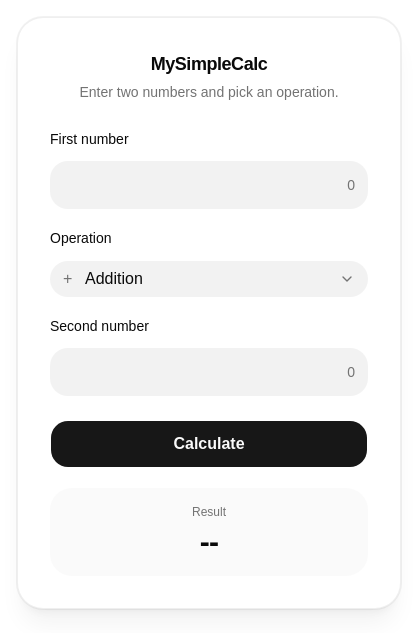
Scenario: CalculatorPage › submitting to the backend › displays the result returned by the backend
Type "25" into the number field labelled "First number" at (209, 185), box [50,161,368,209]
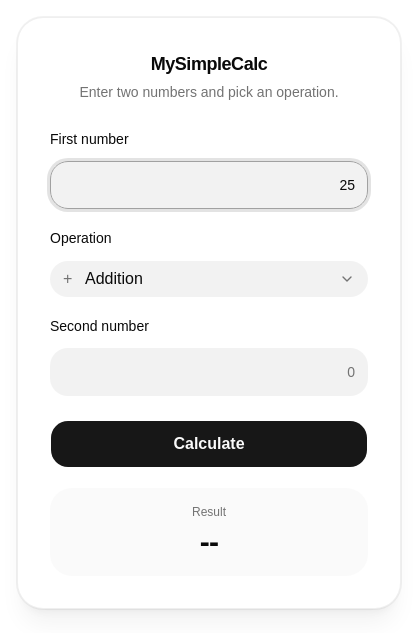
Type "4" into the number field labelled "Second number" at (209, 372), box [50,348,368,396]
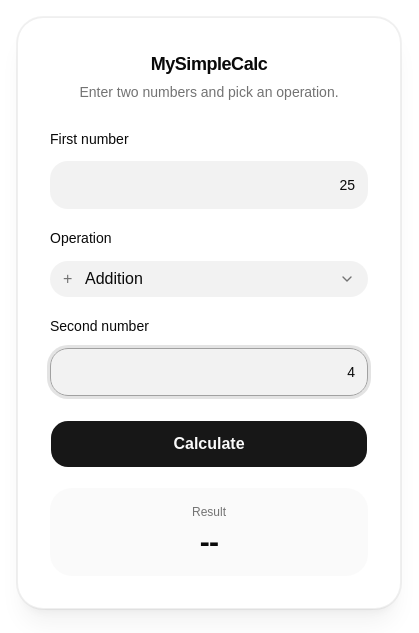
Click the button "Calculate" at (209, 444), box [50,420,368,468]
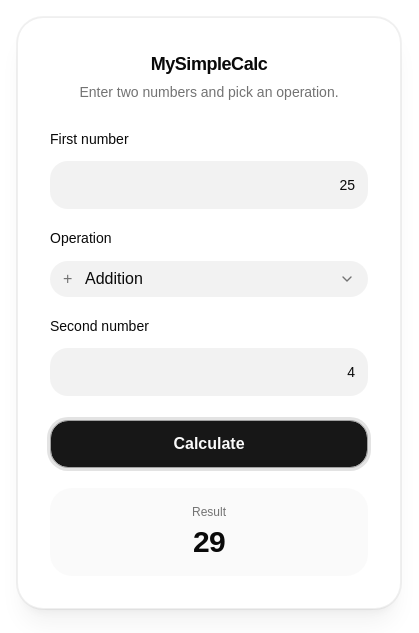
Now the text "29" is shown, box [193,525,225,558]
